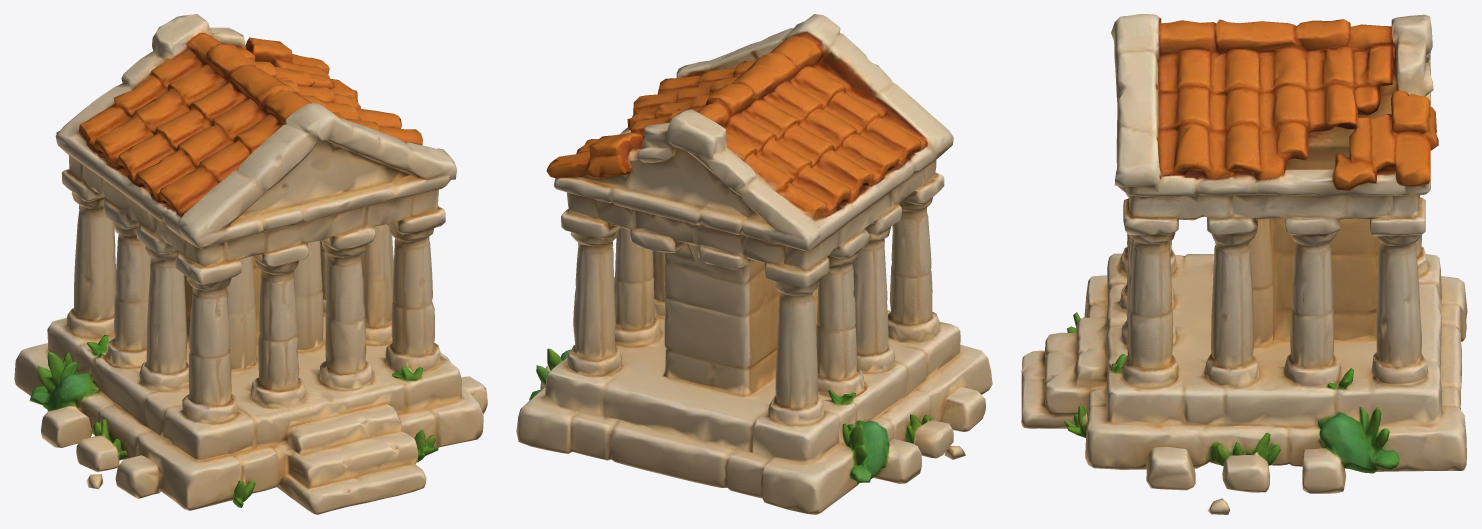
Rendered from temple.glb.
The picture shows the model from 3 angles, left to right: view 1: azimuth 30°, elevation 25°; view 2: azimuth 150°, elevation 25°; view 3: azimuth 270°, elevation 25°; orthographic projection. The views are drawn at different scales.
Parts seen in each view (by area): view 1: tripo_node_0ab04b63-9dcb-47ff-b254-46df2eaf74c5; view 2: tripo_node_0ab04b63-9dcb-47ff-b254-46df2eaf74c5; view 3: tripo_node_0ab04b63-9dcb-47ff-b254-46df2eaf74c5.
Boxes of the visible parts, x1,y1,x2,y2 form: tripo_node_0ab04b63-9dcb-47ff-b254-46df2eaf74c5: (14,14,487,514); tripo_node_0ab04b63-9dcb-47ff-b254-46df2eaf74c5: (516,14,992,514); tripo_node_0ab04b63-9dcb-47ff-b254-46df2eaf74c5: (1021,14,1467,514).
Bounding box in the file's own units: 1 × 0.879 × 0.9067.
1 material, 1 textured.
